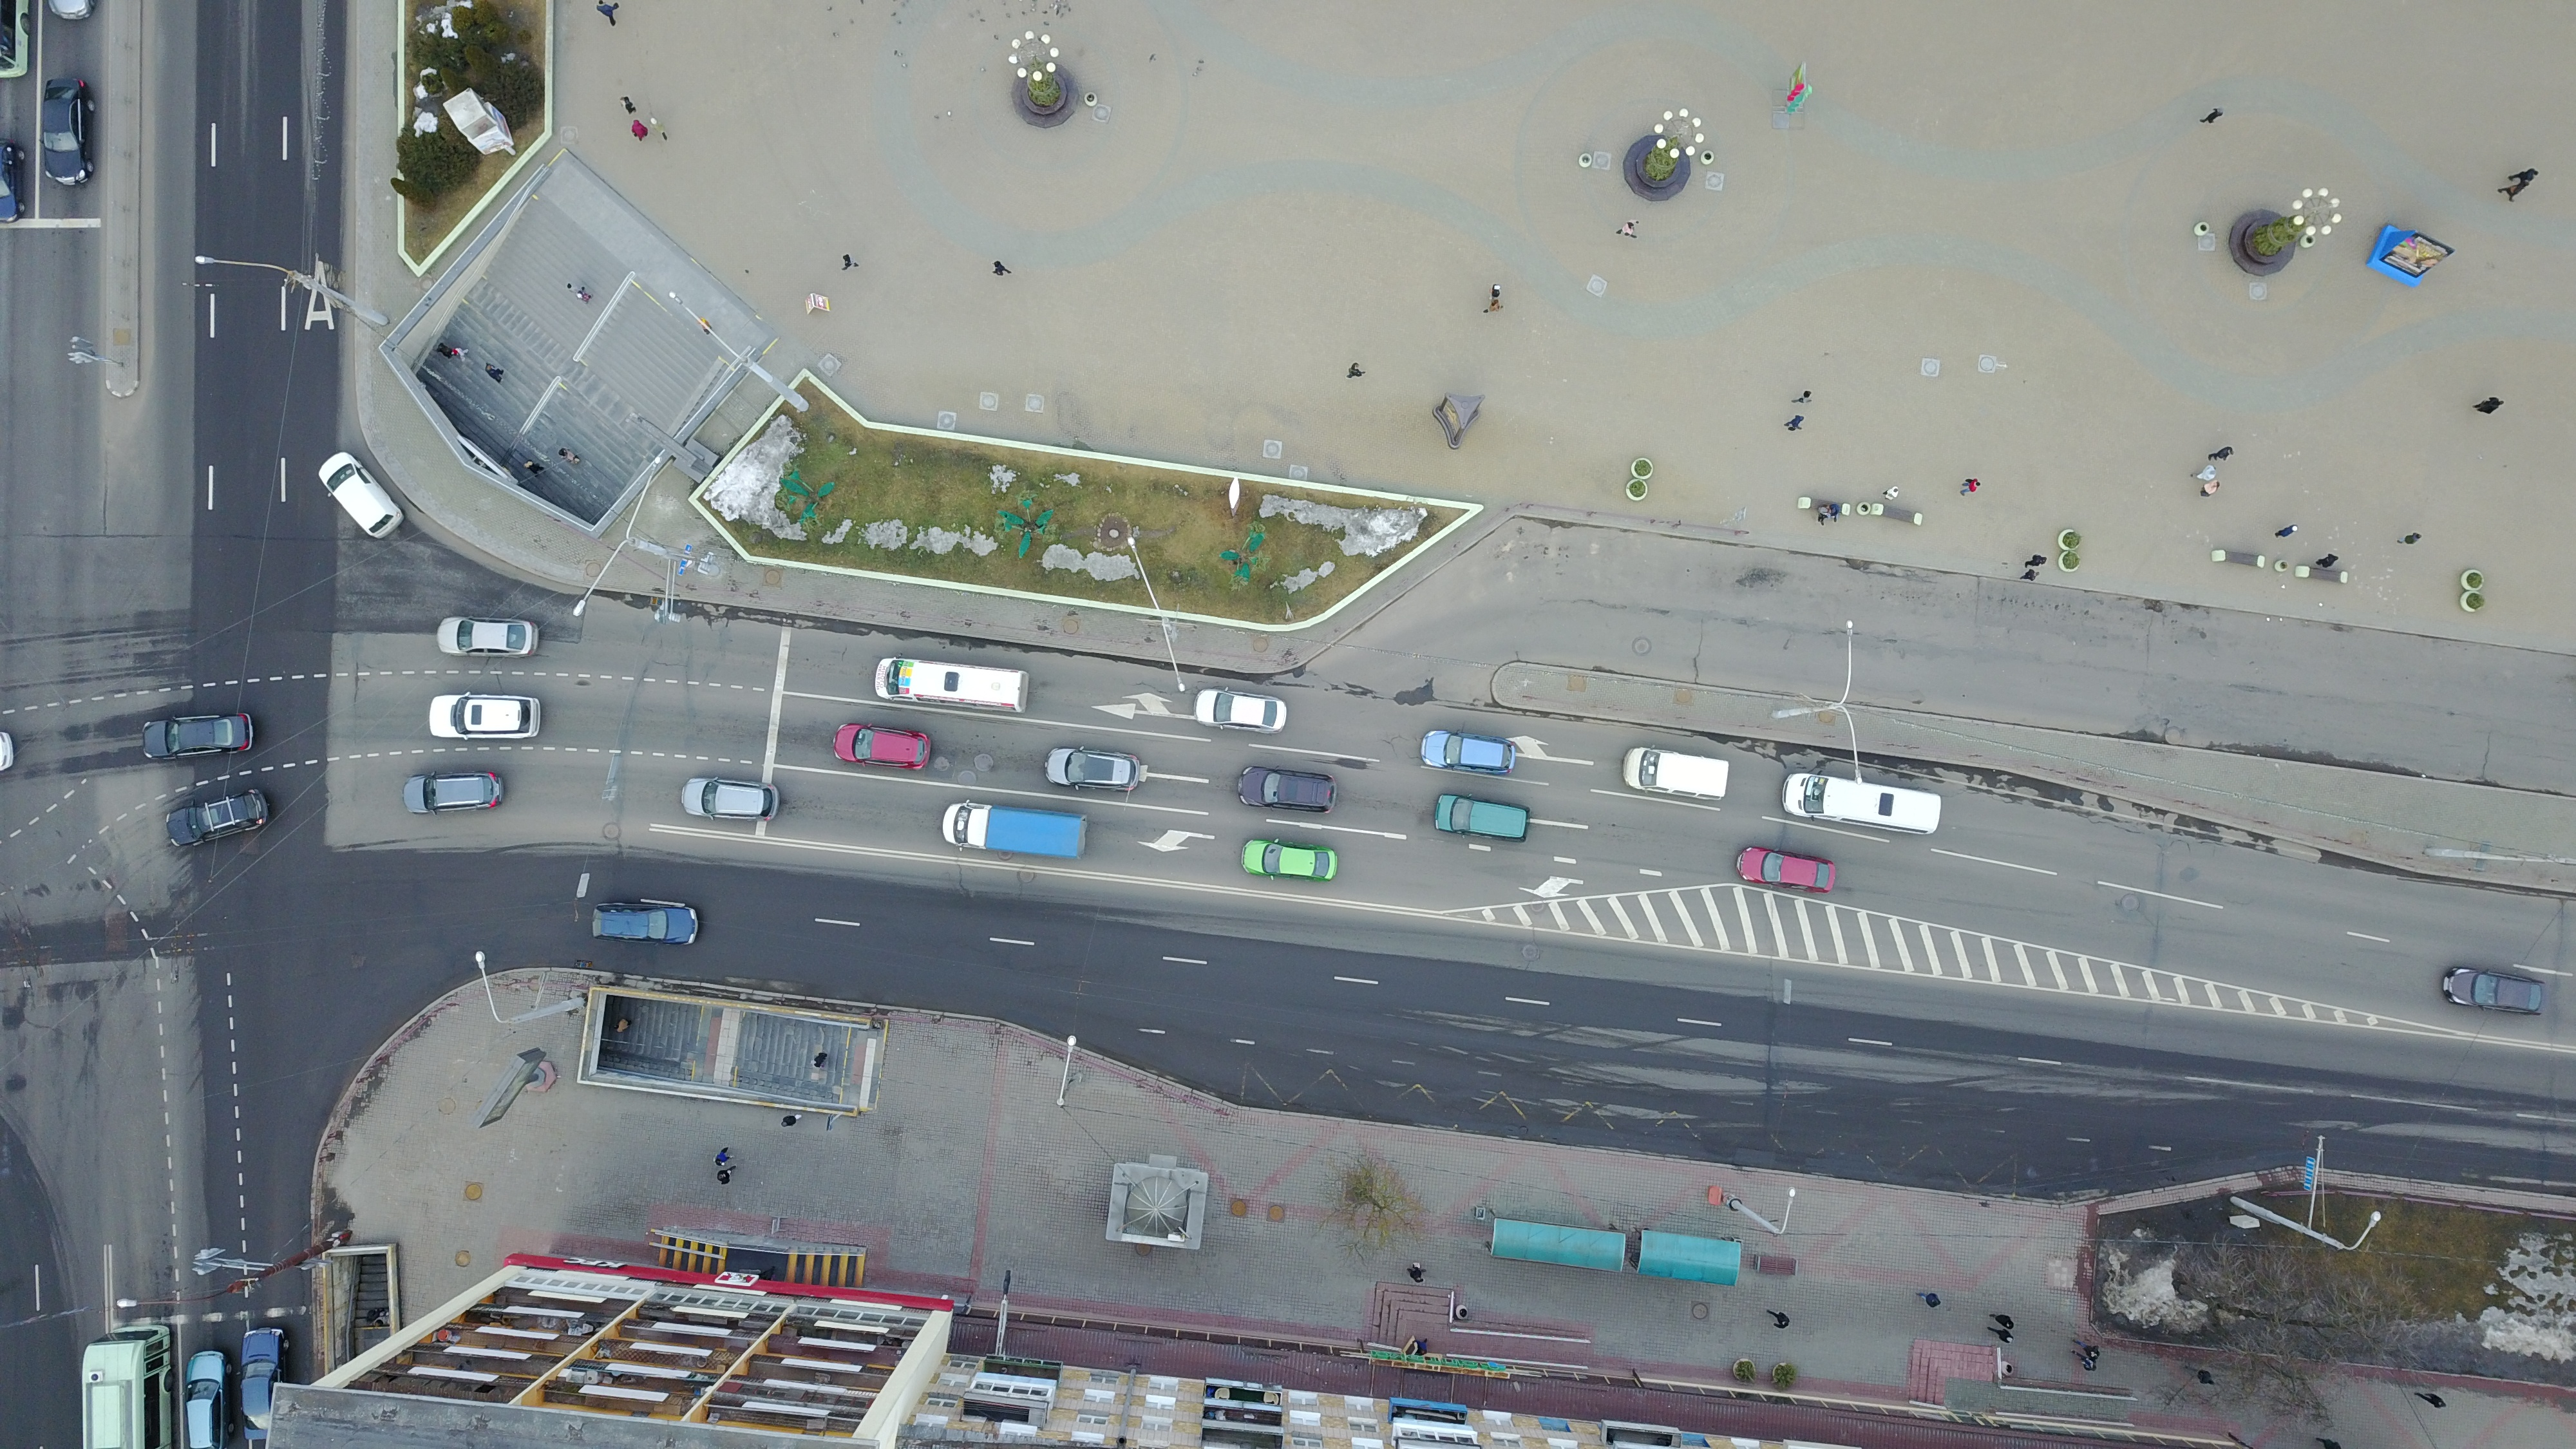car: (313, 449, 407, 540), (2436, 962, 2551, 1024), (163, 784, 271, 849), (37, 76, 97, 193), (239, 1323, 295, 1438), (587, 895, 704, 950), (823, 720, 938, 775), (1734, 840, 1840, 897), (1431, 787, 1532, 846), (1040, 743, 1150, 796), (426, 692, 545, 740), (1231, 763, 1339, 814), (134, 709, 257, 754), (678, 771, 782, 823), (1237, 835, 1345, 885), (1419, 725, 1518, 778), (400, 768, 508, 816), (433, 614, 541, 662), (182, 1346, 232, 1447), (1191, 688, 1292, 734)
